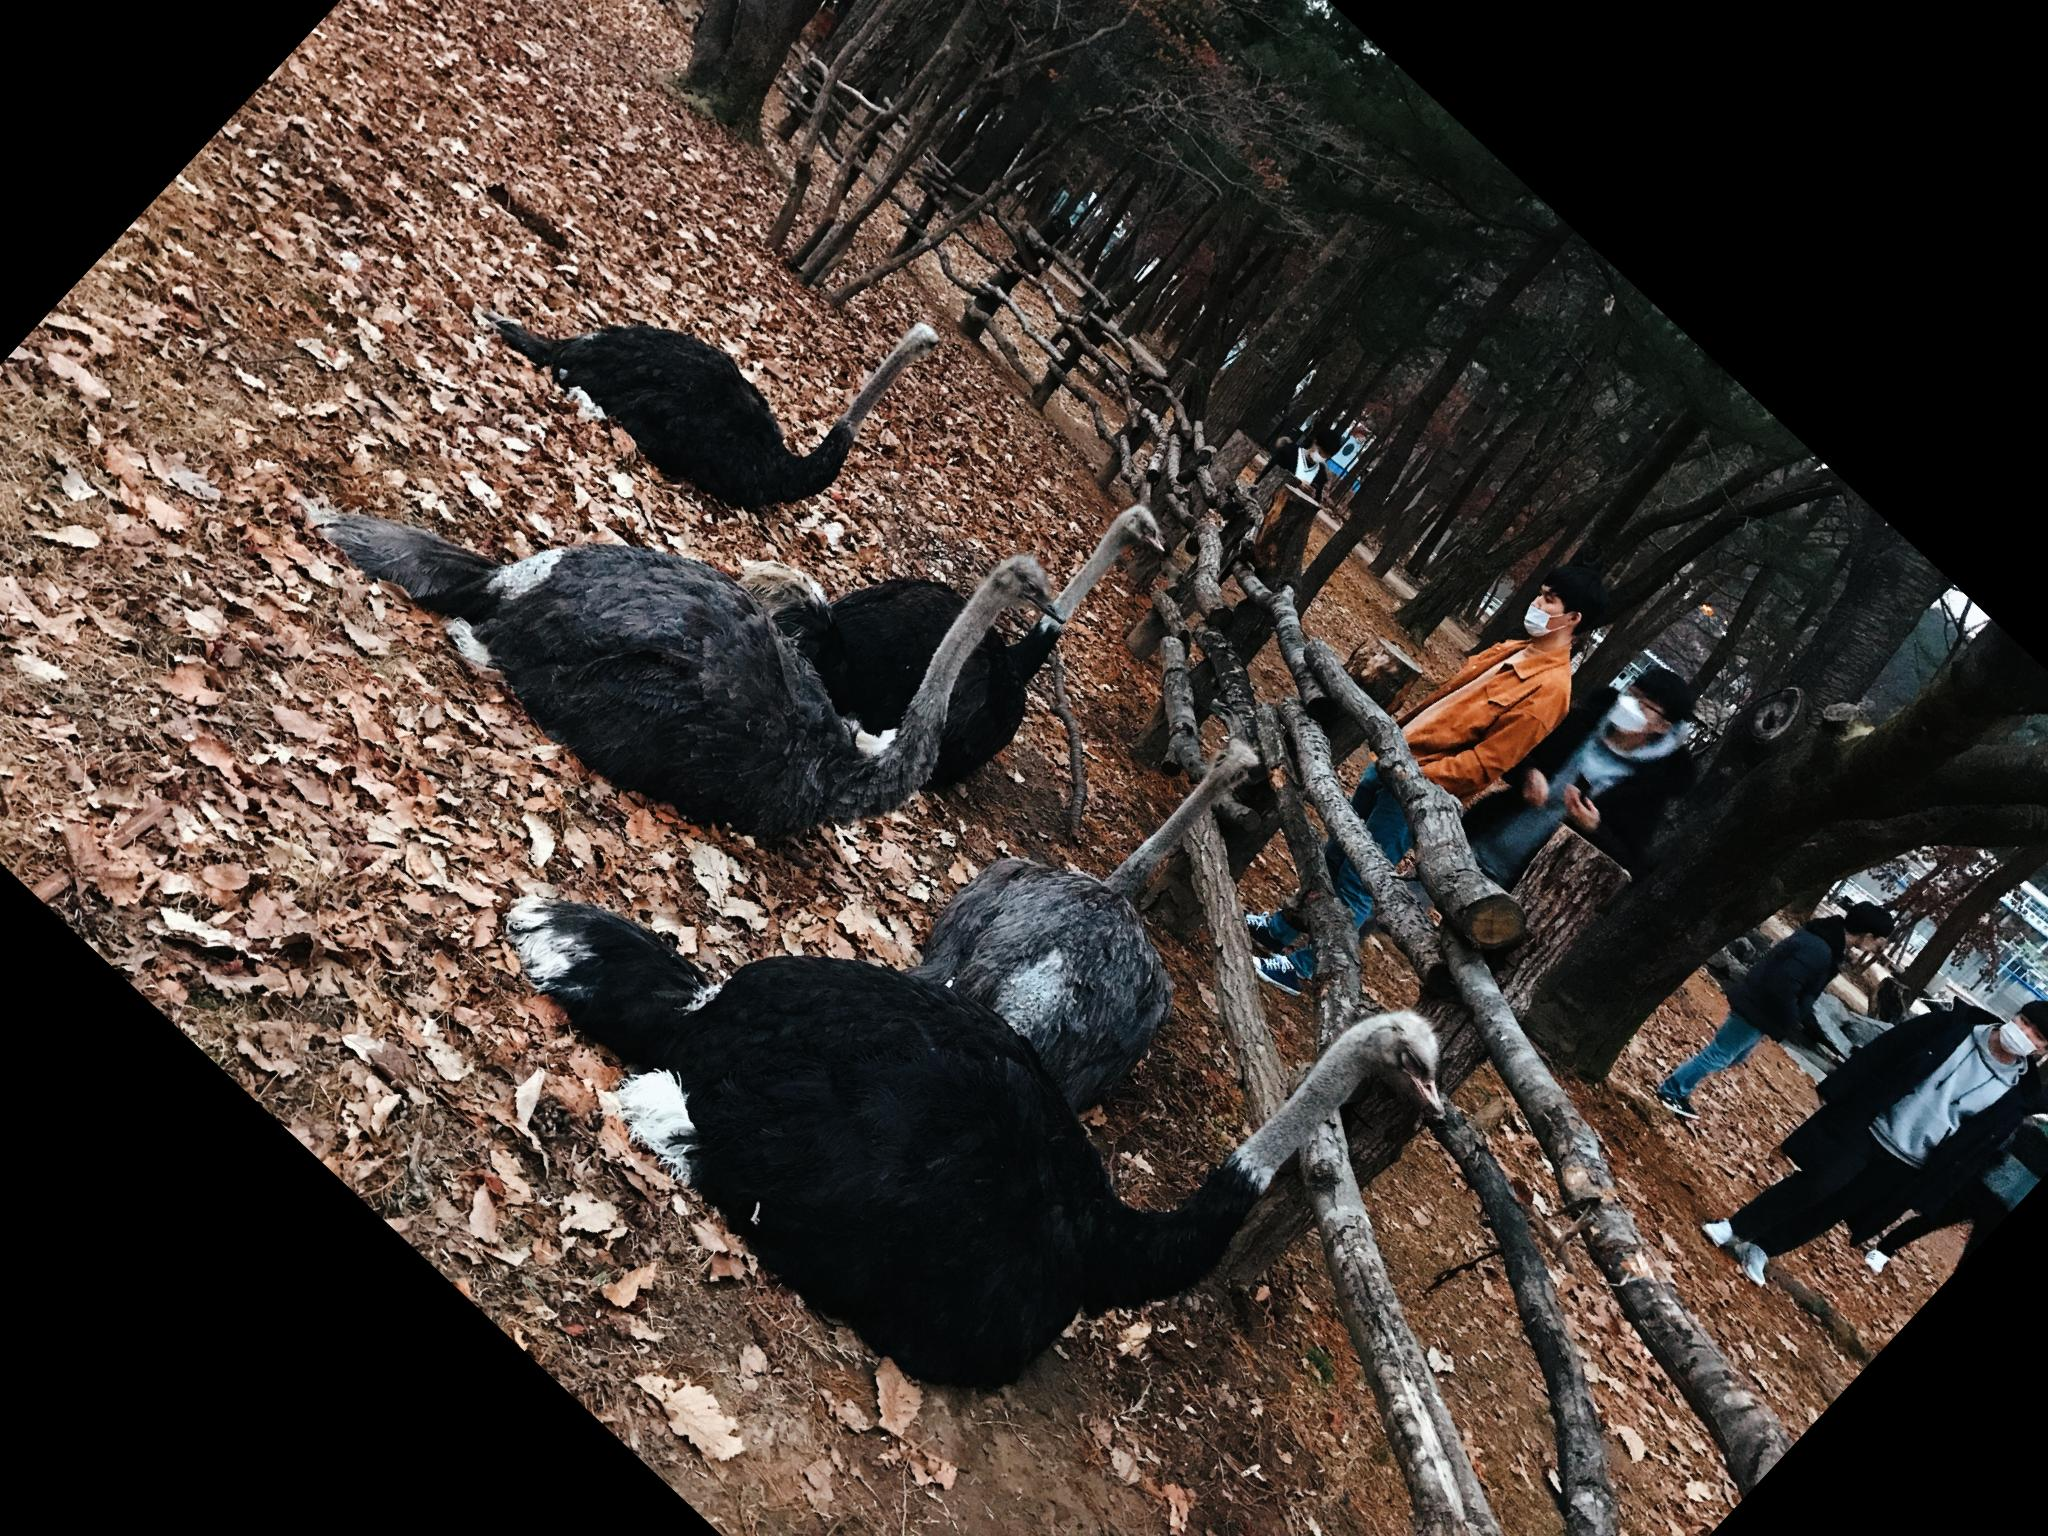ostrich: (445, 507, 1485, 1536), (306, 179, 1092, 957), (474, 95, 958, 574), (892, 665, 1351, 1131)
